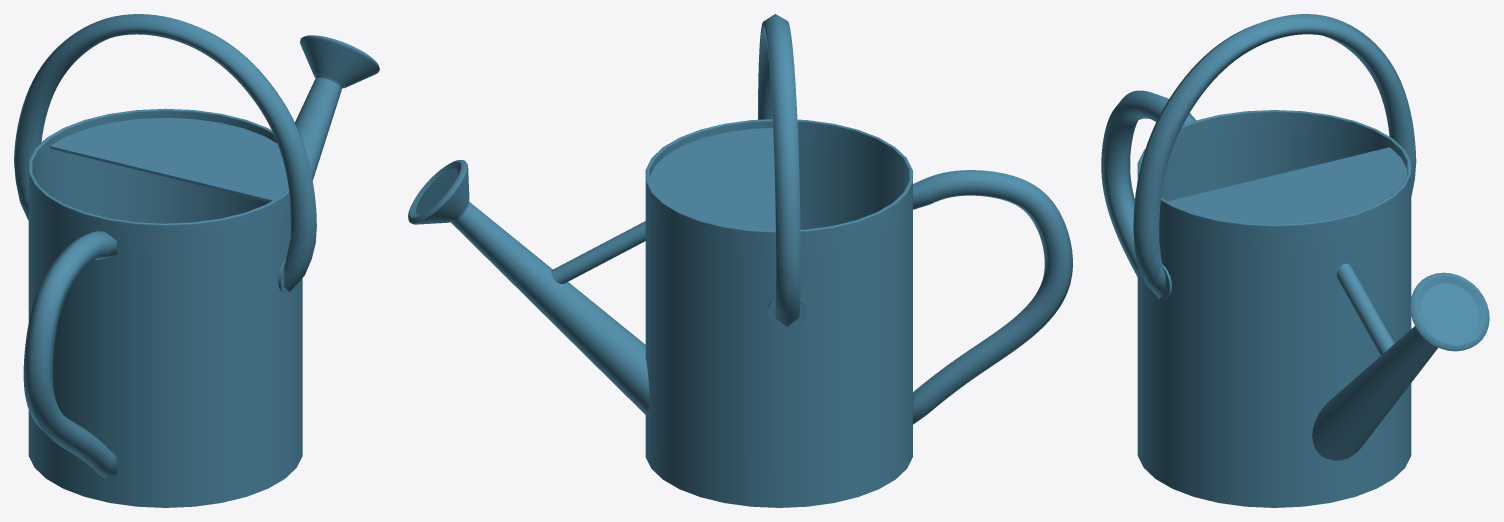
The model's file is WateringCan.fbx.
3 views of the same model, side by side, from view 1: azimuth 30°, elevation 25°; view 2: azimuth 150°, elevation 25°; view 3: azimuth 270°, elevation 25° (orthographic). The views are drawn at different scales.
Parts seen in each view (by area): view 1: WateringCan; view 2: WateringCan; view 3: WateringCan.
Part boxes in pixels (bbox=[...]): WateringCan: bbox=[14, 14, 379, 507]; WateringCan: bbox=[408, 14, 1072, 507]; WateringCan: bbox=[1101, 14, 1489, 507].
Size of the model in its own units: 71.02 by 57.62 by 46.98.
